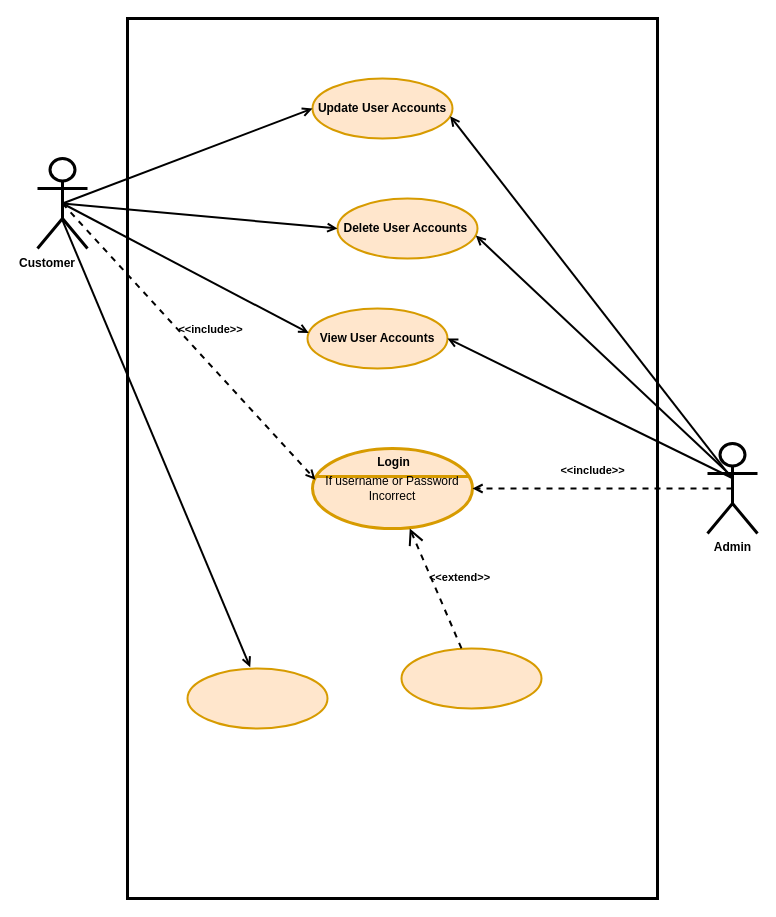
The diagram is 776 pixels wide and 917 high, and some of its shapes have lost their labels. Here are the shapes that lost their labels. From the top down, the box of each, then its label:
(186, 667, 328, 729): Register to the site
(400, 647, 542, 709): Renter Email and Password
